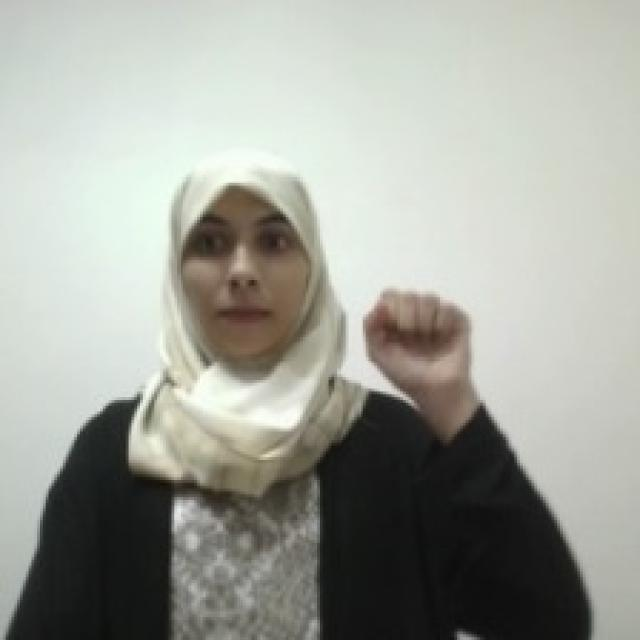yes: (362, 281, 477, 392)
